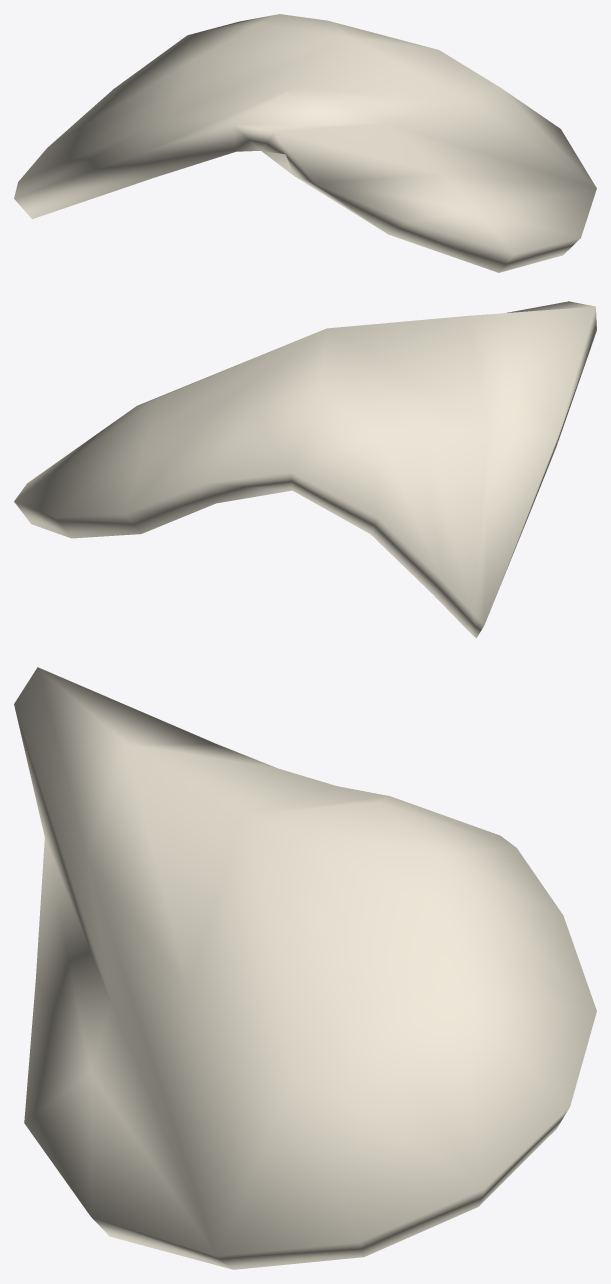
3 views of the same model, one above another, from view 1: azimuth 30°, elevation 25°; view 2: azimuth 150°, elevation 25°; view 3: azimuth 270°, elevation 25° (orthographic). The views are drawn at different scales.
Parts seen in each view (by area): view 1: ZA_a91b2397472dd780; view 2: ZA_a91b2397472dd780; view 3: ZA_a91b2397472dd780.
Part boxes in pixels (x1,y1,x2,y2): ZA_a91b2397472dd780: (14,14,596,272); ZA_a91b2397472dd780: (14,301,596,638); ZA_a91b2397472dd780: (14,667,596,1269).
Bounding box in the file's own units: 0.01 × 0.00455 × 0.00733.
